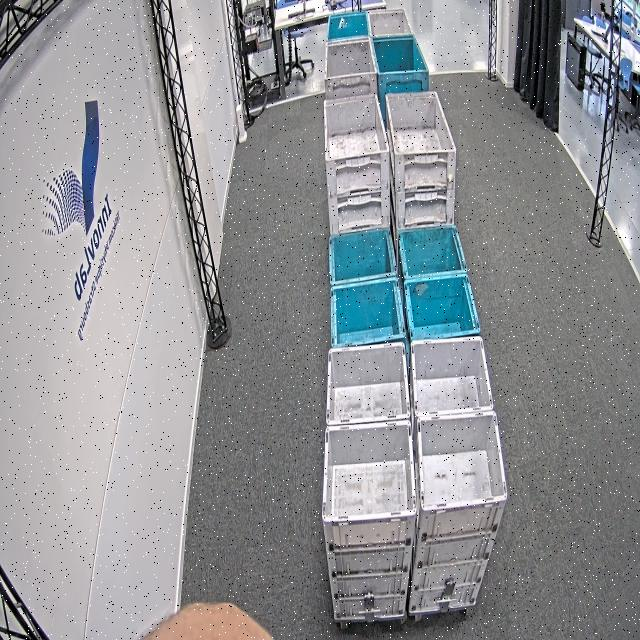Roll3G: (322, 90, 392, 168), (384, 88, 458, 156)
Roll4G: (323, 35, 378, 85), (366, 3, 415, 42)
Roll8G: (319, 337, 418, 527), (409, 333, 511, 512)
RollB4: (371, 36, 429, 80), (324, 8, 372, 48)
RollB8: (326, 224, 408, 352), (396, 222, 482, 344)
